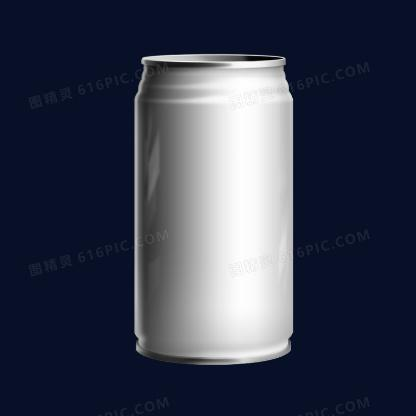Can: (135, 54, 293, 364)
